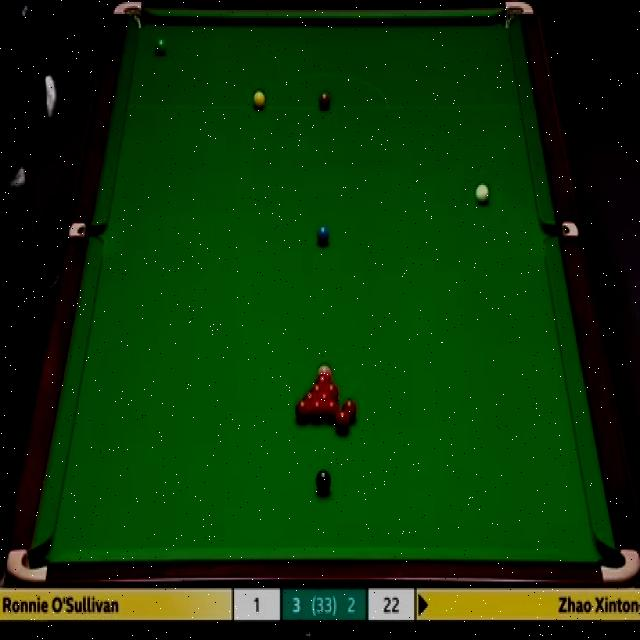black-ball: (316, 470, 331, 497)
blue-ball: (315, 224, 330, 248)
brown-ball: (317, 89, 331, 111)
green-ball: (154, 37, 167, 56)
pink-ball: (318, 363, 332, 378)
red-ball: (343, 398, 358, 424), (335, 408, 350, 432), (324, 399, 338, 424), (295, 401, 309, 424), (310, 399, 323, 422), (325, 383, 340, 398), (310, 381, 326, 393), (317, 390, 333, 401), (303, 389, 317, 400), (316, 375, 332, 384)
white-ball: (474, 181, 491, 209)
yellow-ball: (252, 88, 266, 111)
